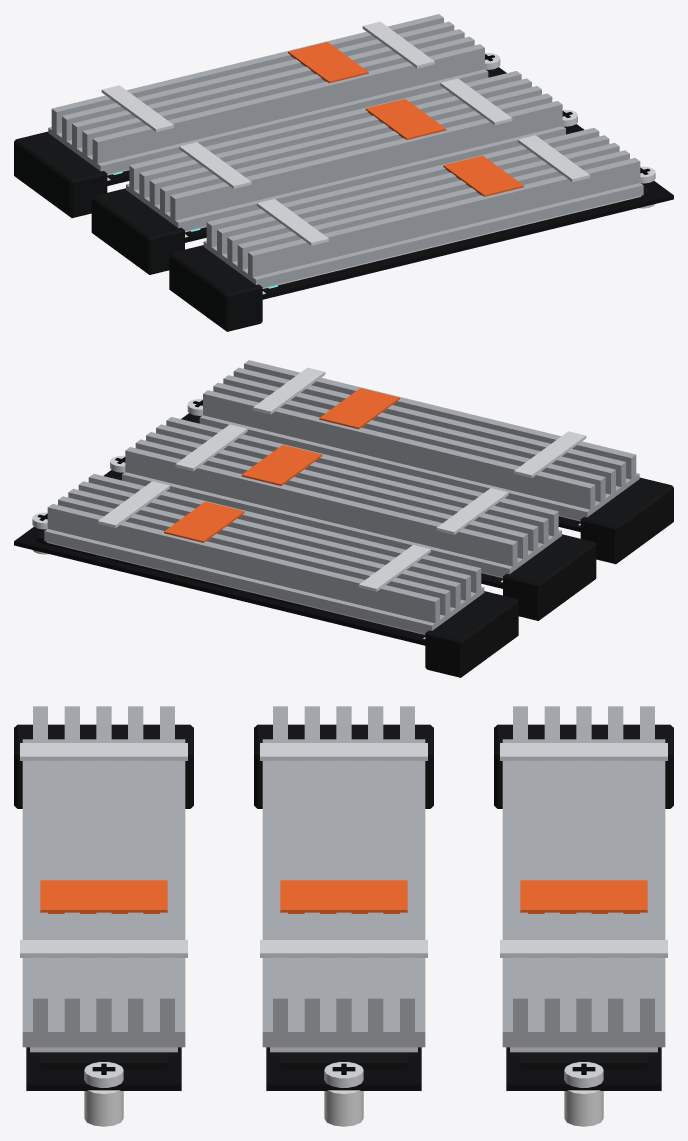
File: hwm_sto_nvme5_15tb.glb
The picture shows the model from 3 angles, top to bottom: view 1: azimuth 30°, elevation 25°; view 2: azimuth 150°, elevation 25°; view 3: azimuth 270°, elevation 25°; orthographic projection. The views are drawn at different scales.
Visible parts, largest first — view 1: SSD_2, SSD_0, SSD_1, Slots; view 2: SSD_0, SSD_2, SSD_1, Slots; view 3: SSD_0, SSD_1, SSD_2, Slots, Screw_0, Screw_1, Screw_2.
Part boxes in pixels (x1=…): SSD_2: x1=203, y1=128, x2=673, y2=299; SSD_0: x1=48, y1=14, x2=506, y2=185; SSD_1: x1=126, y1=71, x2=584, y2=242; Slots: x1=14, y1=67, x2=654, y2=331; SSD_0: x1=14, y1=474, x2=484, y2=645; SSD_2: x1=181, y1=360, x2=639, y2=531; SSD_1: x1=103, y1=417, x2=561, y2=588; Slots: x1=33, y1=413, x2=673, y2=677; SSD_0: x1=500, y1=706, x2=667, y2=1090; SSD_1: x1=260, y1=706, x2=427, y2=1090; SSD_2: x1=20, y1=706, x2=187, y2=1090; Slots: x1=14, y1=724, x2=673, y2=1126; Screw_0: x1=564, y1=1062, x2=603, y2=1087; Screw_1: x1=324, y1=1062, x2=363, y2=1087; Screw_2: x1=84, y1=1062, x2=123, y2=1087.
Size of the model in its own units: 0.1155 by 0.0164 by 0.0935.
